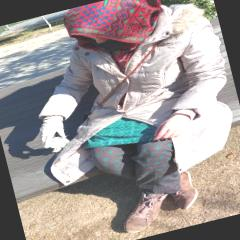gloved: (34, 114, 70, 153)
not-gloved: (150, 113, 192, 144)
